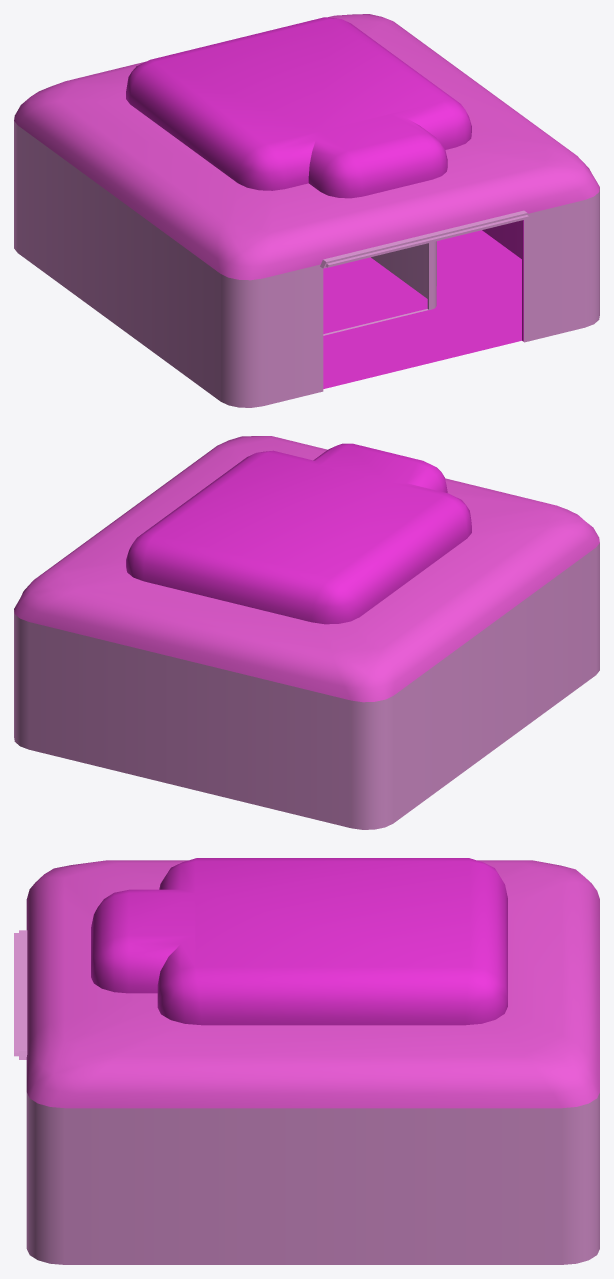
Rendered from Pink-Bolge.fbx.
3 renders of one model, top to bottom at view 1: azimuth 30°, elevation 25°; view 2: azimuth 150°, elevation 25°; view 3: azimuth 270°, elevation 25°, orthographic. The views are drawn at different scales.
Visible parts, largest first — view 1: Entry, Exit; view 2: Entry; view 3: Entry.
Boxes of the visible parts, <box> form: Entry: <box>14,14,599,407</box>; Exit: <box>323,241,436,335</box>; Entry: <box>14,436,599,829</box>; Entry: <box>14,858,599,1264</box>.
Size of the model in its own units: 10.79 by 5.33 by 11.88.
